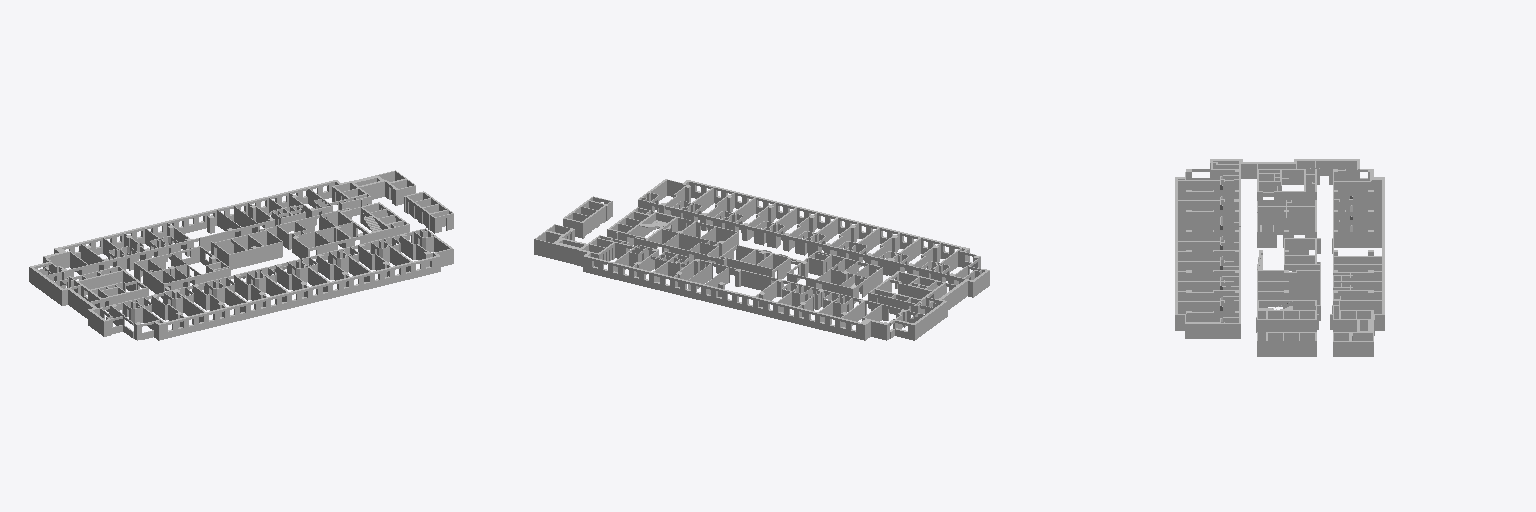
File: 楼层模型.obj
3 views of the same model, side by side, from view 1: azimuth 30°, elevation 25°; view 2: azimuth 150°, elevation 25°; view 3: azimuth 270°, elevation 25° (orthographic).
Visible parts, largest first — view 1: Line1911, Line398; view 2: Line1911, Line398; view 3: Line1911, Line398.
Boxes of the visible parts, x1=… form: Line1911: x1=29, y1=170, x2=453, y2=340; Line398: x1=404, y1=191, x2=453, y2=233; Line1911: x1=534, y1=179, x2=989, y2=340; Line398: x1=563, y1=196, x2=612, y2=238; Line1911: x1=1175, y1=159, x2=1384, y2=356; Line398: x1=1257, y1=332, x2=1316, y2=356.
Bounding box in the file's own units: 70500 × 3674 × 34200.